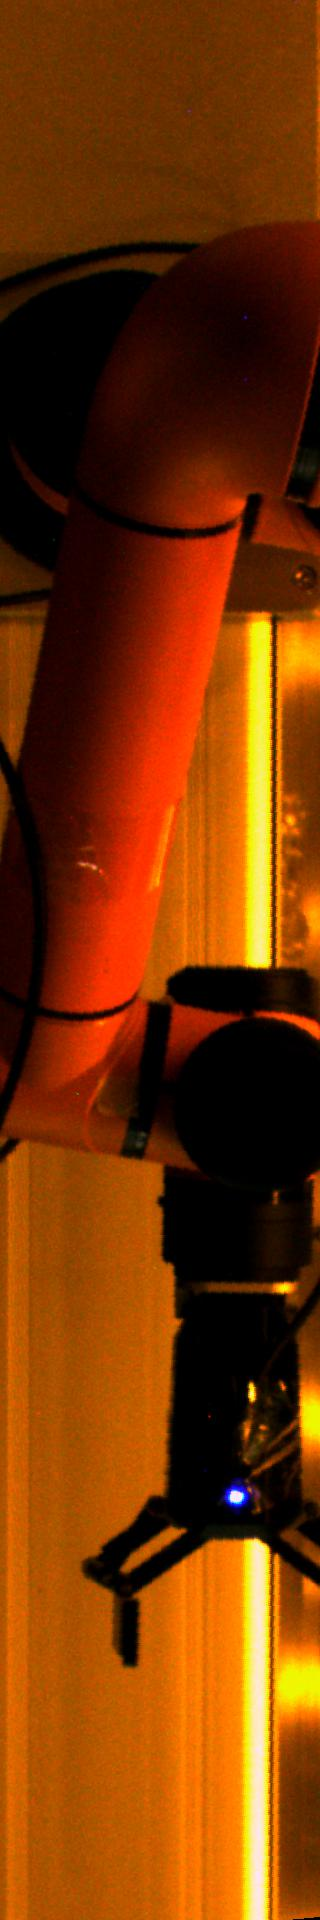keyPoint_1: (221, 1478, 251, 1509)
